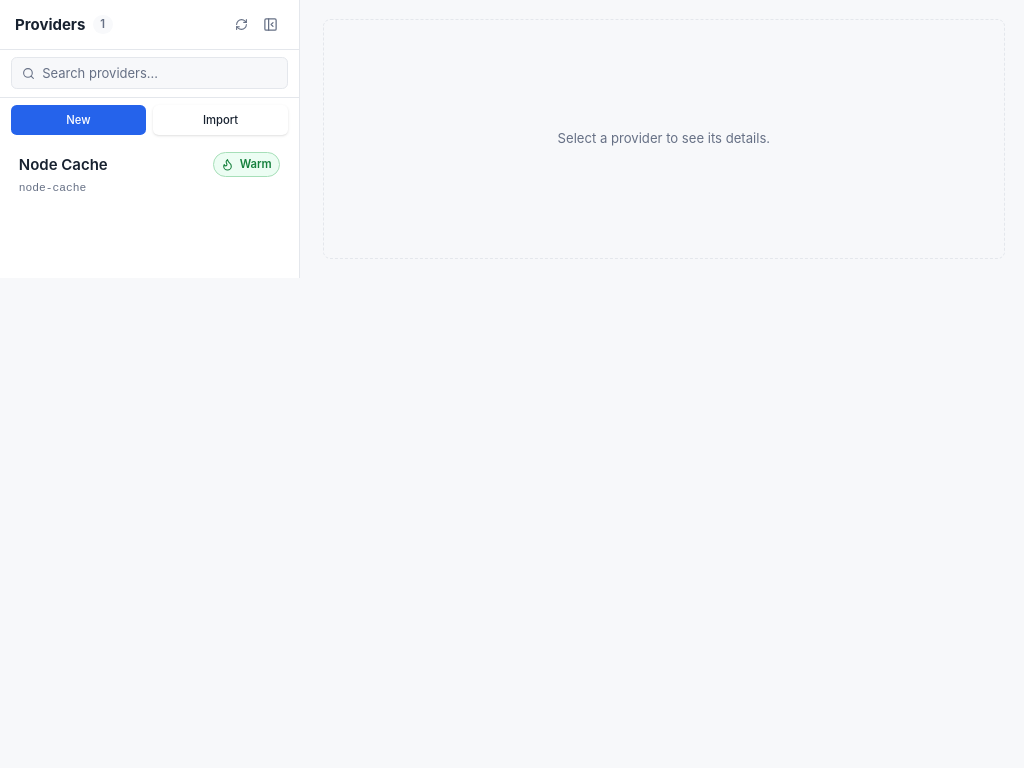
ProvidersPage › renders a warm lifecycle card with its warmed_at time
This screenshot has width=1024, height=768.
Click the button "Node Cache Warm node-cache" at (63, 164), box [8, 143, 292, 205]
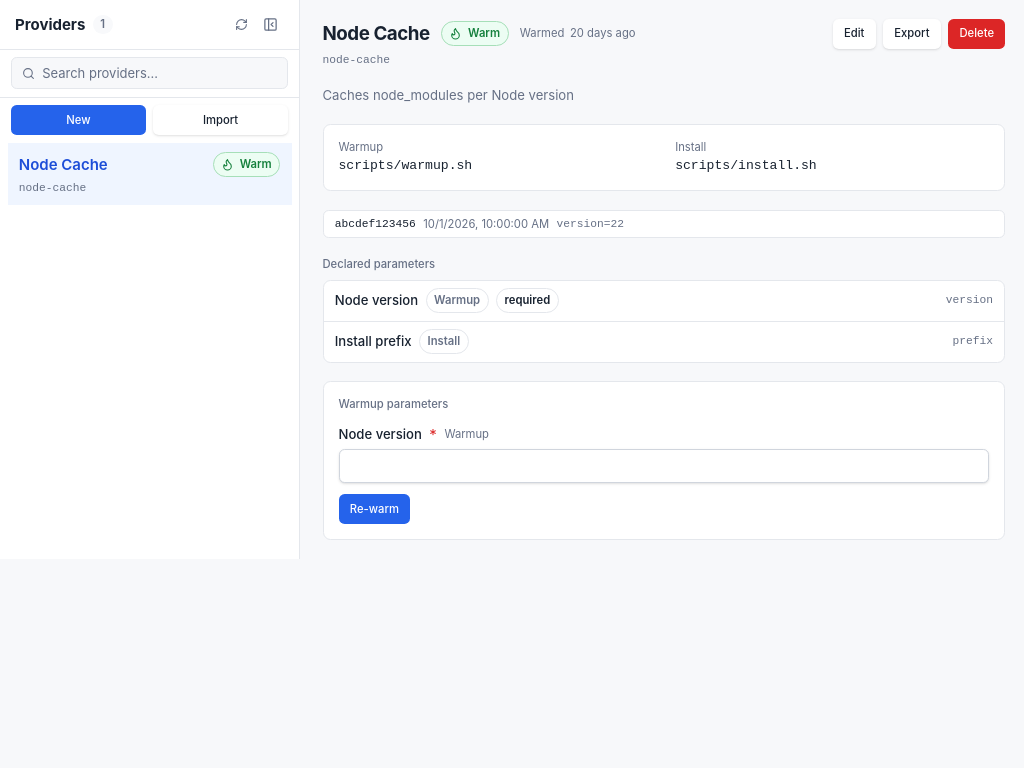
Expected: the text "Warm" next to "Warmed" is shown, [468, 26, 500, 40]
Expected: the text named "10/1/2026, 10:00:00 AM" is shown, [570, 26, 636, 41]
Expected: the element "Node Cache" shows "abcdef123456", [335, 218, 416, 230]
